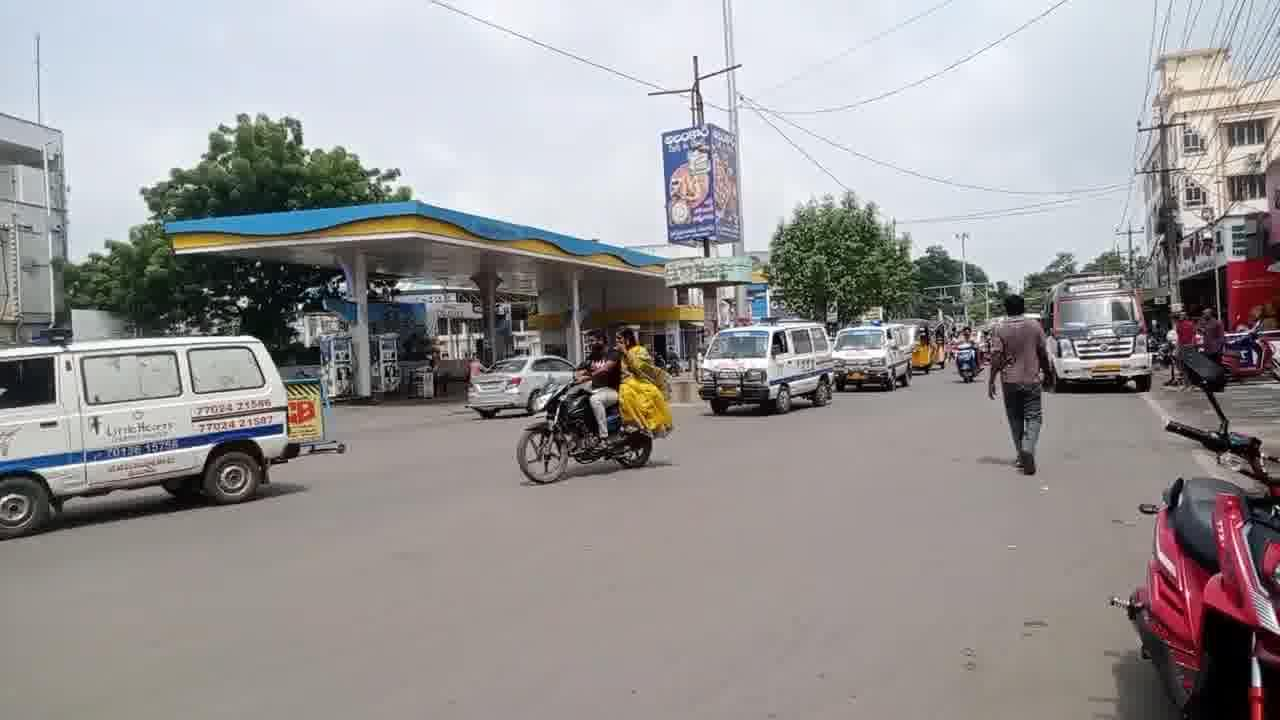AMBULANCE: (0, 332, 302, 505), (702, 314, 842, 413), (1035, 269, 1158, 381)
